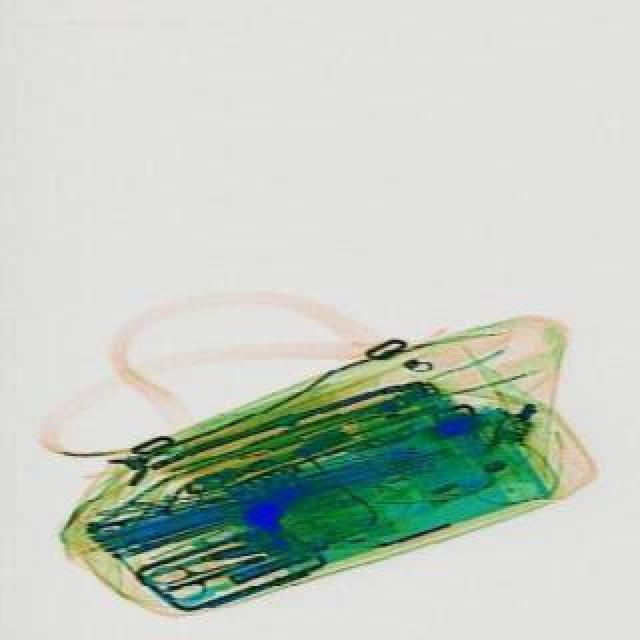pliers: (144, 534, 266, 608)
